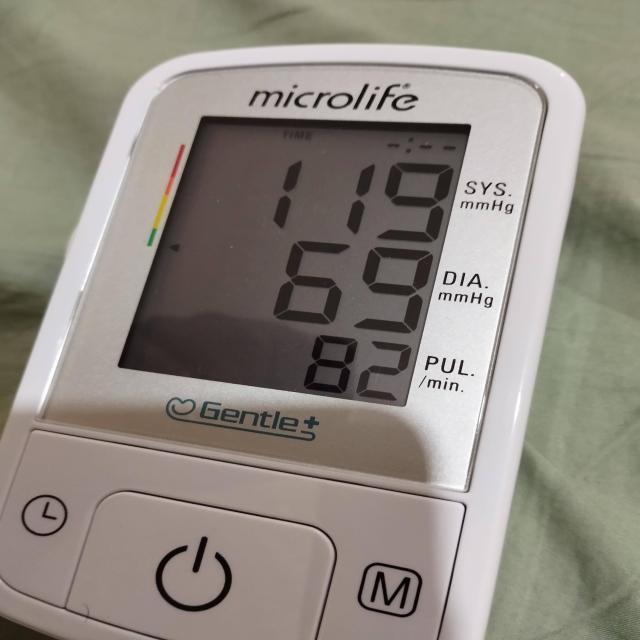bp: (0, 44, 587, 640)
